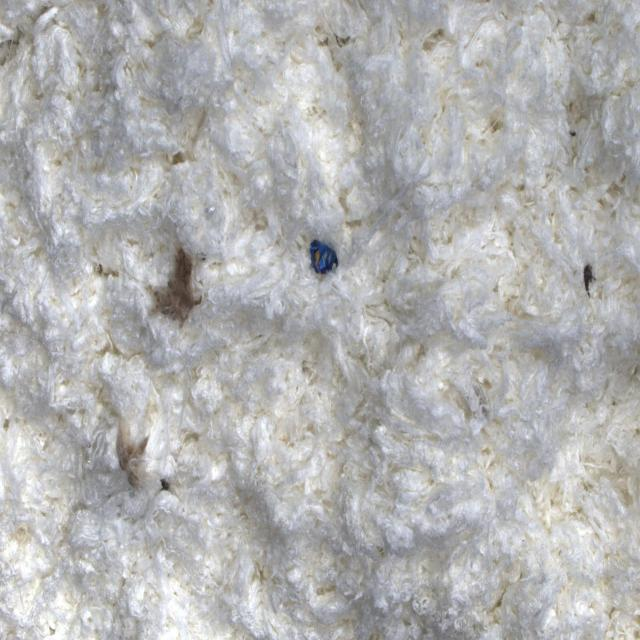dust: (298, 207, 354, 316), (105, 402, 161, 504), (145, 243, 205, 331), (574, 250, 604, 308), (160, 471, 173, 498)
